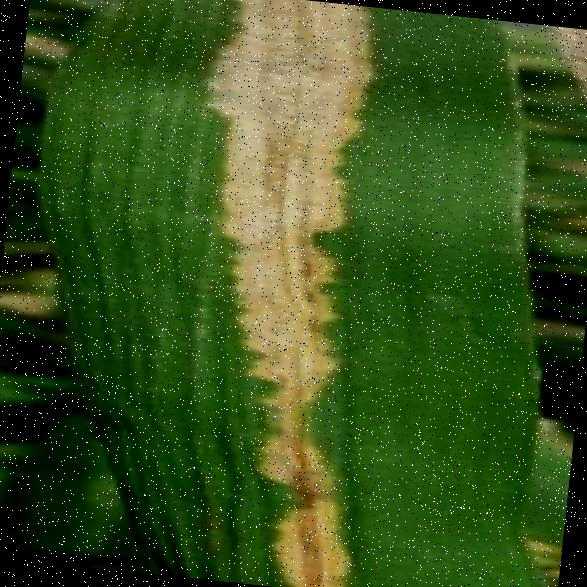Bacteria_Leaf_Blight: (16, 0, 585, 587)
